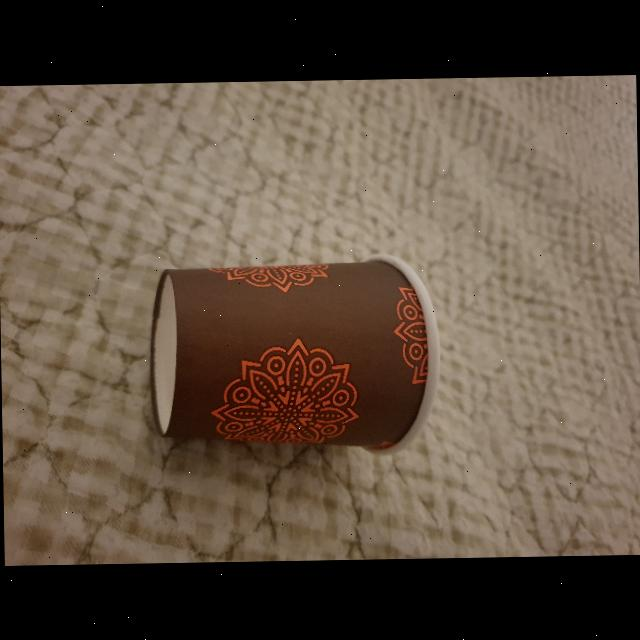trash: (144, 254, 447, 466)
